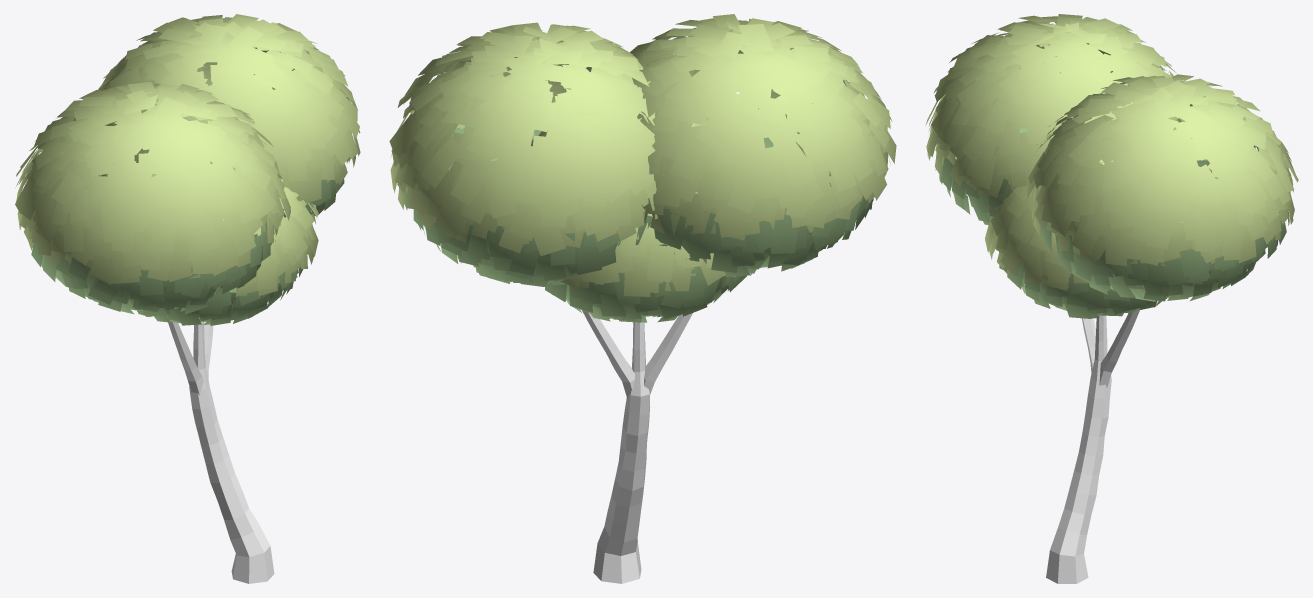
The model's file is tree_lean_olive.glb.
3 views of the same model, side by side, from view 1: azimuth 30°, elevation 25°; view 2: azimuth 150°, elevation 25°; view 3: azimuth 270°, elevation 25° (orthographic). The views are drawn at different scales.
Visible parts, largest first — view 1: foliage, trunk; view 2: foliage, trunk; view 3: foliage, trunk.
Part boxes in pixels (bbox=[...]): foliage: bbox=[15, 14, 360, 325]; trunk: bbox=[168, 321, 274, 583]; foliage: bbox=[389, 14, 896, 322]; trunk: bbox=[582, 310, 692, 583]; foliage: bbox=[925, 14, 1298, 318]; trunk: bbox=[1046, 310, 1139, 583].
Bounding box in the file's own units: 4.67 × 6.24 × 4.23.
